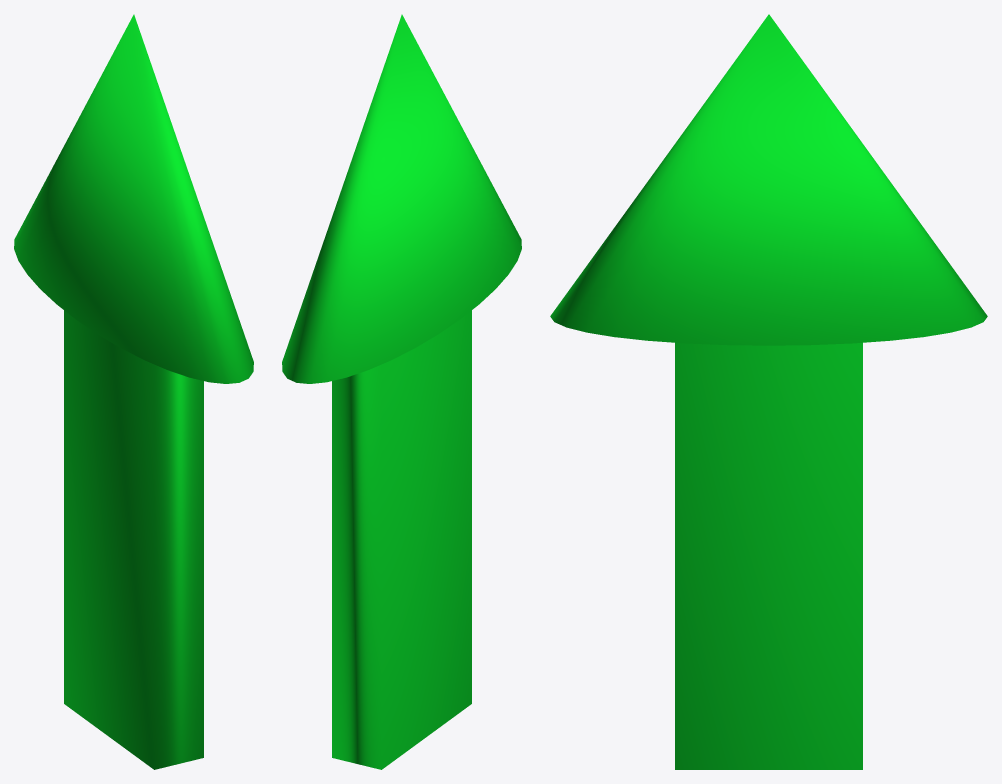
The model's file is SimpleArrow.fbx.
3 views of the same model, side by side, from view 1: azimuth 30°, elevation 25°; view 2: azimuth 150°, elevation 25°; view 3: azimuth 270°, elevation 25° (orthographic). The views are drawn at different scales.
Parts seen in each view (by area): view 1: Cube; view 2: Cube; view 3: Cube.
Boxes of the visible parts, x1=… form: Cube: x1=14, y1=14, x2=253, y2=769; Cube: x1=282, y1=14, x2=521, y2=769; Cube: x1=550, y1=14, x2=987, y2=769.
Bounding box in the file's own units: 133 × 788 × 421.
